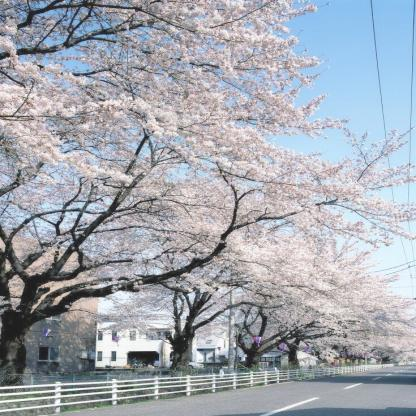Someiyoshino: (3, 2, 340, 191), (112, 117, 413, 294), (220, 239, 413, 367)
